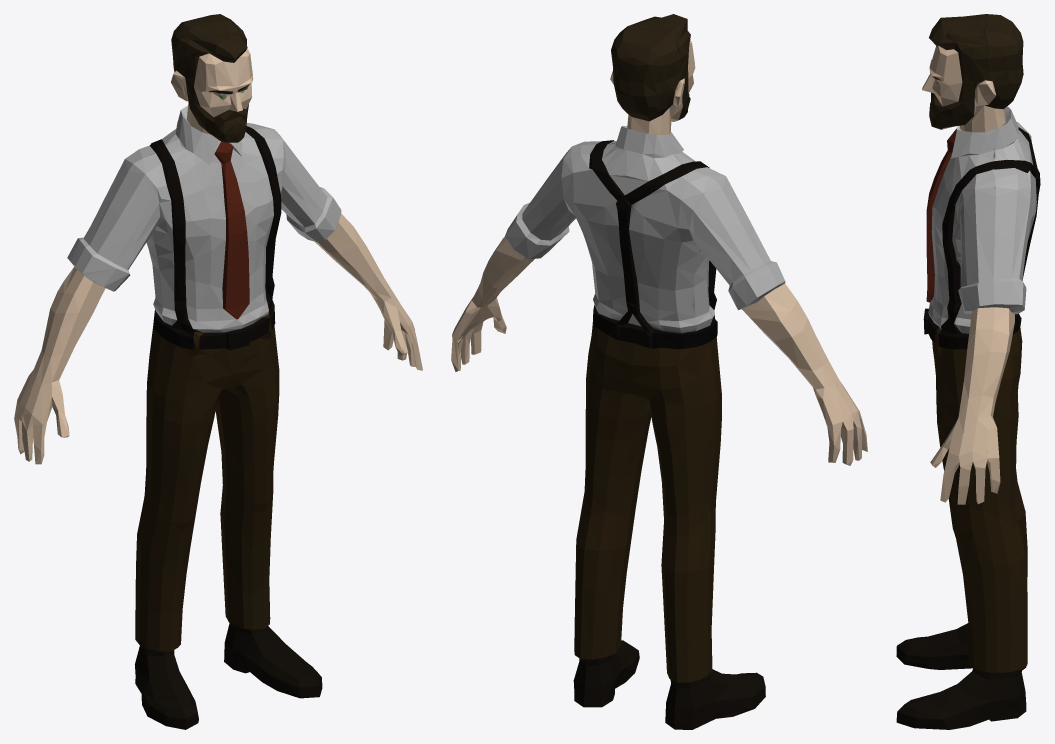
The model's file is victor sin rig.fbx.
The picture shows the model from 3 angles, left to right: view 1: azimuth 30°, elevation 25°; view 2: azimuth 150°, elevation 25°; view 3: azimuth 270°, elevation 25°; orthographic projection. The views are drawn at different scales.
Visible parts, largest first — view 1: tripo_node_e9f83542-ab6b-49b4-b20f-816953aa22b8; view 2: tripo_node_e9f83542-ab6b-49b4-b20f-816953aa22b8; view 3: tripo_node_e9f83542-ab6b-49b4-b20f-816953aa22b8.
Part boxes in pixels (box(x1,y1,x2,y2)): tripo_node_e9f83542-ab6b-49b4-b20f-816953aa22b8: box(14, 14, 422, 729); tripo_node_e9f83542-ab6b-49b4-b20f-816953aa22b8: box(451, 14, 867, 729); tripo_node_e9f83542-ab6b-49b4-b20f-816953aa22b8: box(896, 14, 1040, 729).
Bounding box in the file's own units: 421 × 680 × 133.
